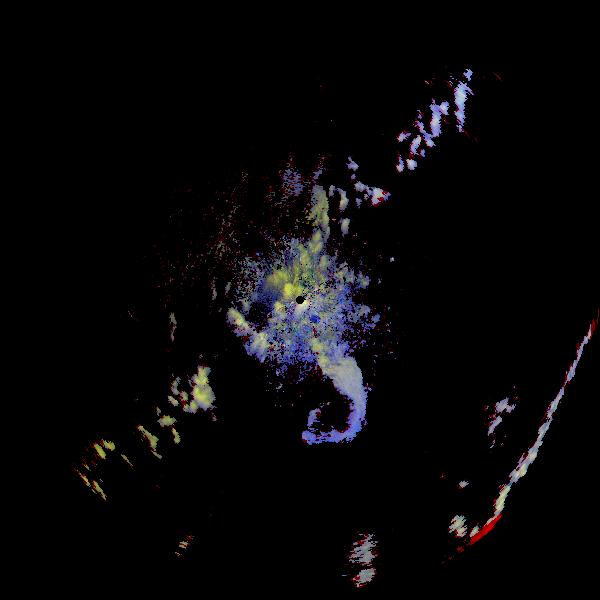roost: (250, 331, 385, 466), (221, 129, 344, 252)
